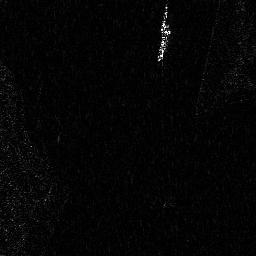ship: (157, 22, 170, 62)
